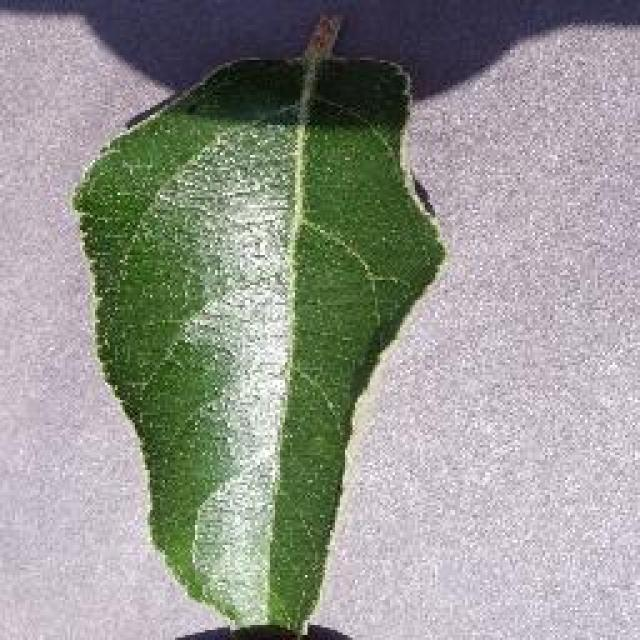apple healthy: (70, 18, 448, 638)
